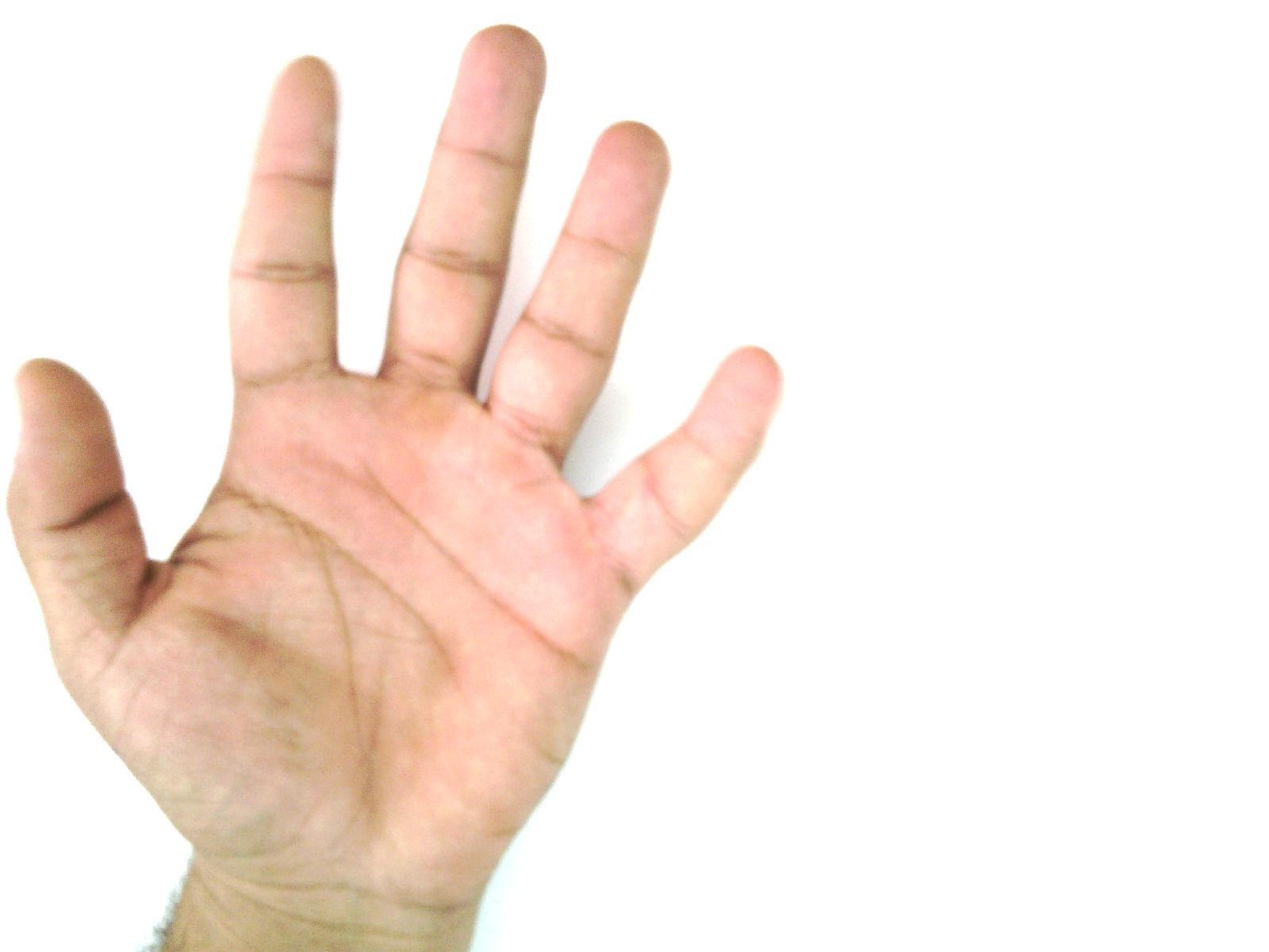open_palm: (7, 22, 786, 908)
